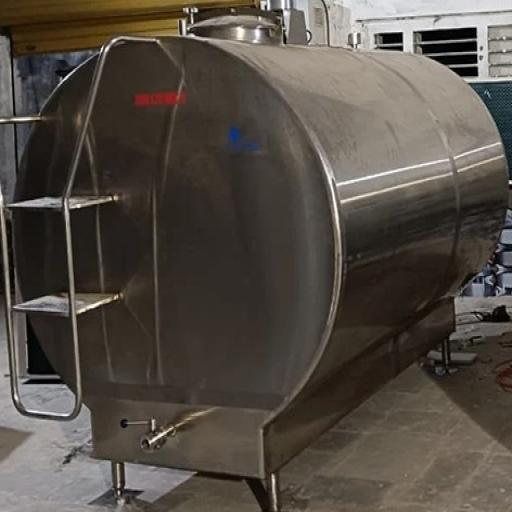silo: (9, 17, 511, 511)
